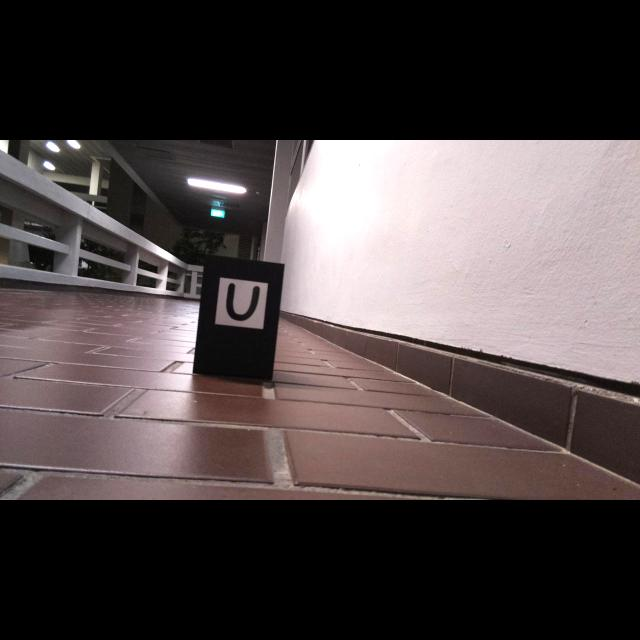U: (226, 284, 259, 322)
